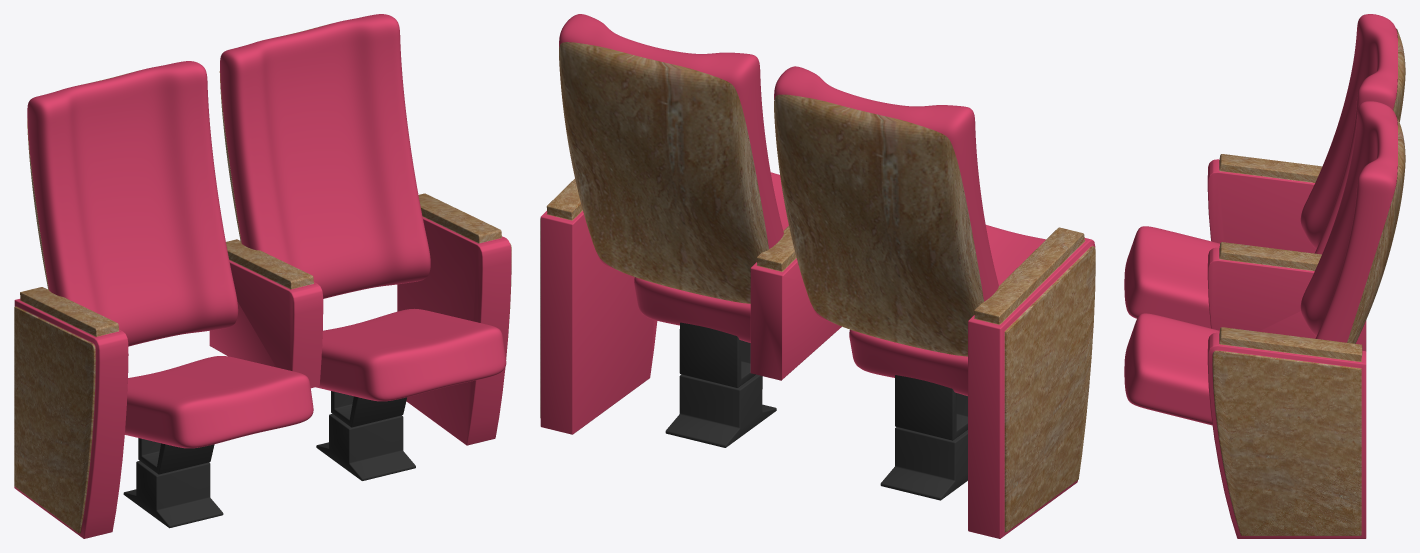
The model's file is siege_cine.glb.
3 renders of one model, left to right at view 1: azimuth 30°, elevation 25°; view 2: azimuth 150°, elevation 25°; view 3: azimuth 270°, elevation 25°, orthographic. The views are drawn at different scales.
Visible parts, largest first — view 1: Cube.009_14, Cube.005_9, Cube.002_6, Cube.007_11, Cube.001_5, Cube.006_10, Cube.004_8, Cube.003_7, Cube.008_12; view 2: Cube.009_14, Cube.005_9, Cube.002_6, Cube.007_11, Cube.008_12, Cube.003_7, Cube.004_8, Cube.001_5, Cube.006_10; view 3: Cube.007_11, Cube.005_9, Cube.002_6, Cube.004_8, Cube.009_14, Cube.006_10, Cube.001_5.
Boxes of the visible parts, left/top/right/bottom form: Cube.009_14: left=27, top=61, right=238, bottom=346; Cube.005_9: left=219, top=14, right=430, bottom=298; Cube.002_6: left=14, top=287, right=128, bottom=538; Cube.007_11: left=397, top=193, right=511, bottom=445; Cube.001_5: left=125, top=356, right=313, bottom=448; Cube.006_10: left=316, top=308, right=506, bottom=401; Cube.004_8: left=209, top=239, right=323, bottom=388; Cube.003_7: left=123, top=438, right=223, bottom=528; Cube.008_12: left=316, top=391, right=415, bottom=480; Cube.009_14: left=774, top=66, right=998, bottom=356; Cube.005_9: left=559, top=14, right=783, bottom=303; Cube.002_6: left=968, top=227, right=1095, bottom=538; Cube.007_11: left=540, top=179, right=657, bottom=434; Cube.008_12: left=665, top=322, right=776, bottom=447; Cube.003_7: left=880, top=375, right=967, bottom=500; Cube.004_8: left=750, top=226, right=841, bottom=380; Cube.001_5: left=849, top=225, right=1045, bottom=395; Cube.006_10: left=634, top=172, right=788, bottom=342; Cube.007_11: left=1207, top=327, right=1366, bottom=538; Cube.005_9: left=1300, top=101, right=1405, bottom=343; Cube.002_6: left=1207, top=154, right=1322, bottom=253; Cube.004_8: left=1207, top=242, right=1366, bottom=351; Cube.009_14: left=1300, top=14, right=1405, bottom=254; Cube.006_10: left=1124, top=313, right=1219, bottom=425; Cube.001_5: left=1124, top=226, right=1219, bottom=328.
Bounding box in the file's own units: 1.42 × 1.25 × 0.8922.
Materials: 3 (1 with a texture image).
